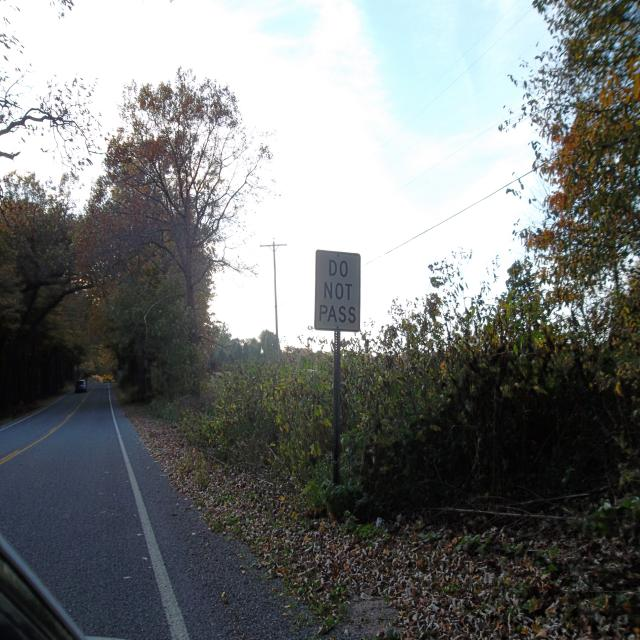regulatory: (312, 245, 366, 340)
